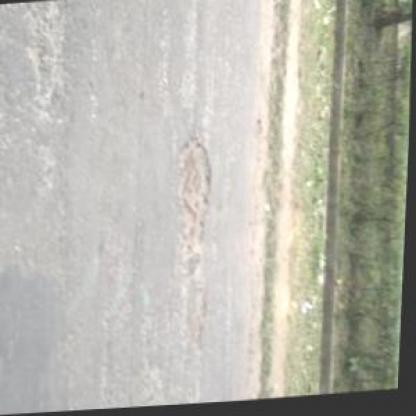pothole: (169, 140, 216, 269)
